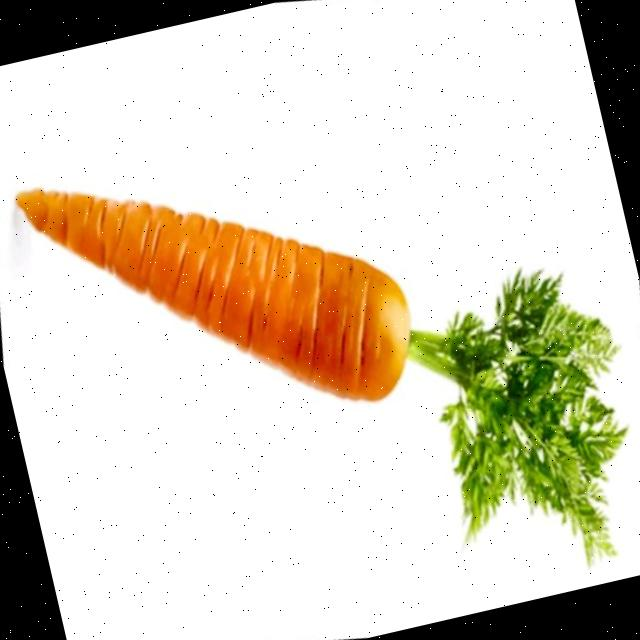carrot: (16, 189, 625, 562)
